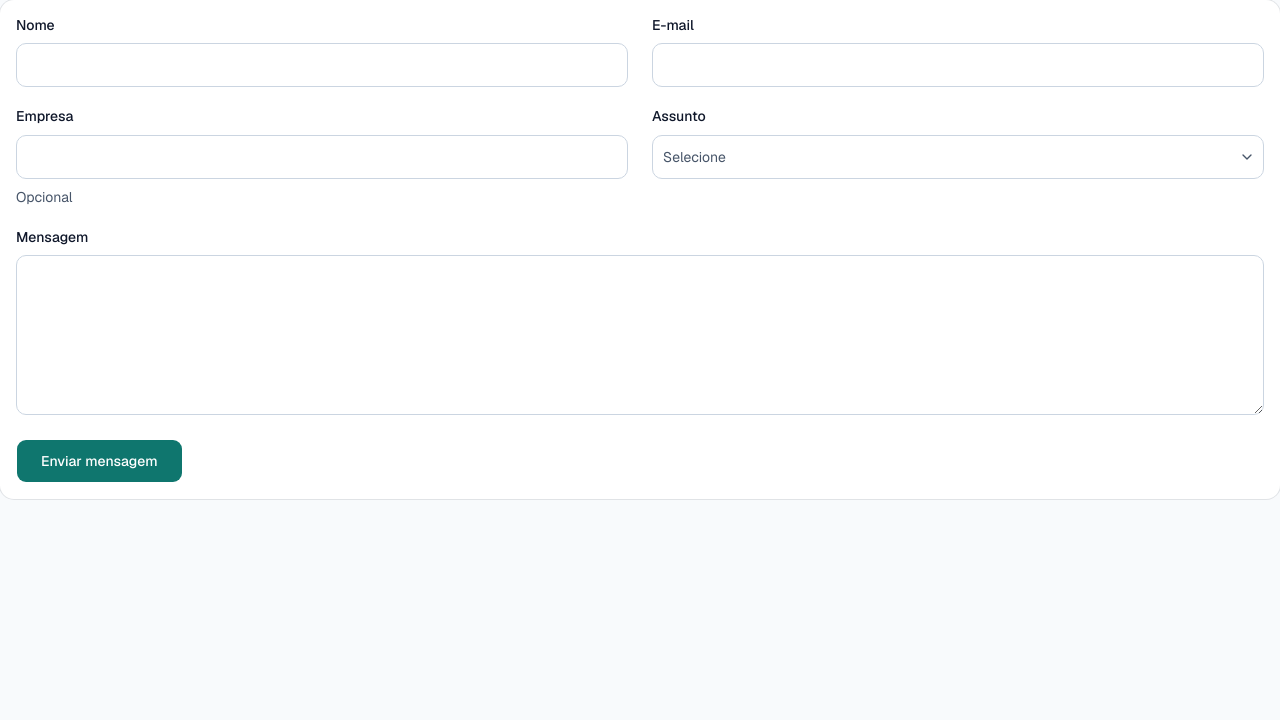
Scenario: ContactForm › erro: alerta, erro no campo e valores digitados preservados
Click the button "Enviar mensagem". click: (99,461)
box: [16, 439, 182, 483]
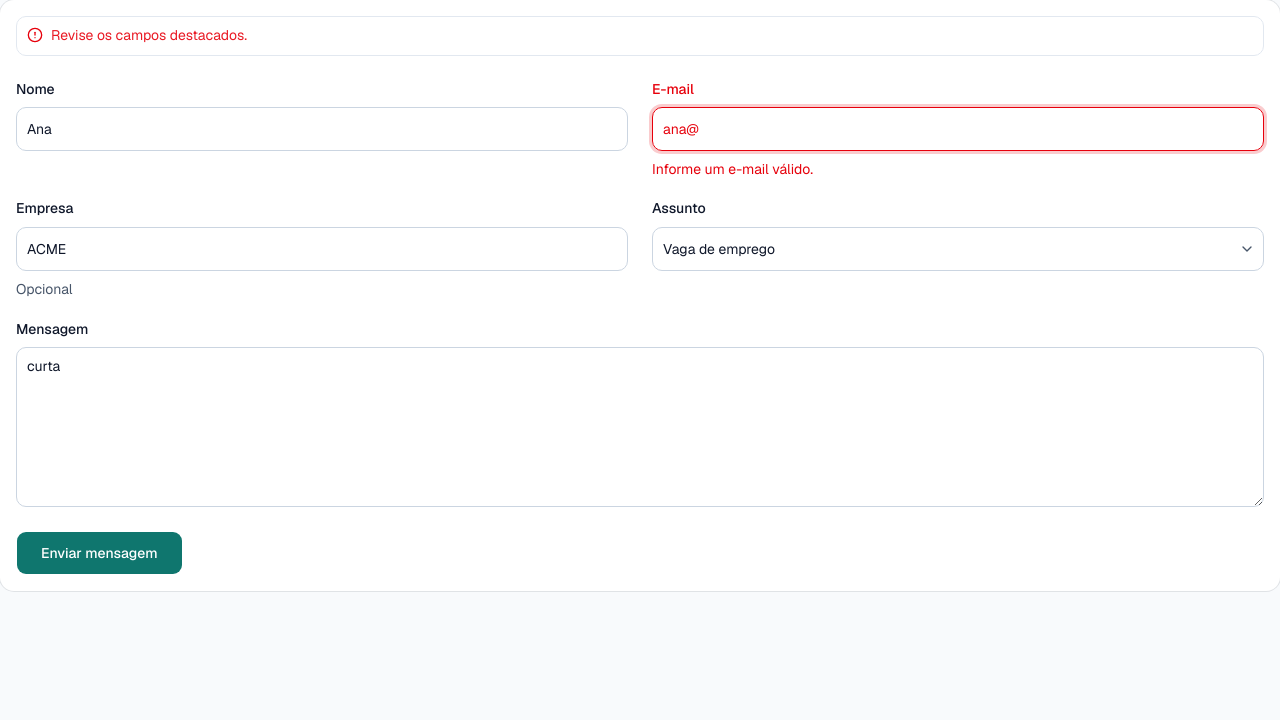
Expected: the text "Revise os campos destacados." is shown, [51, 26, 247, 44]
Expected: the text "Informe um e-mail válido." is shown, [652, 160, 813, 178]
Expected: the field labelled "Nome" holds "Ana", [16, 107, 628, 151]
